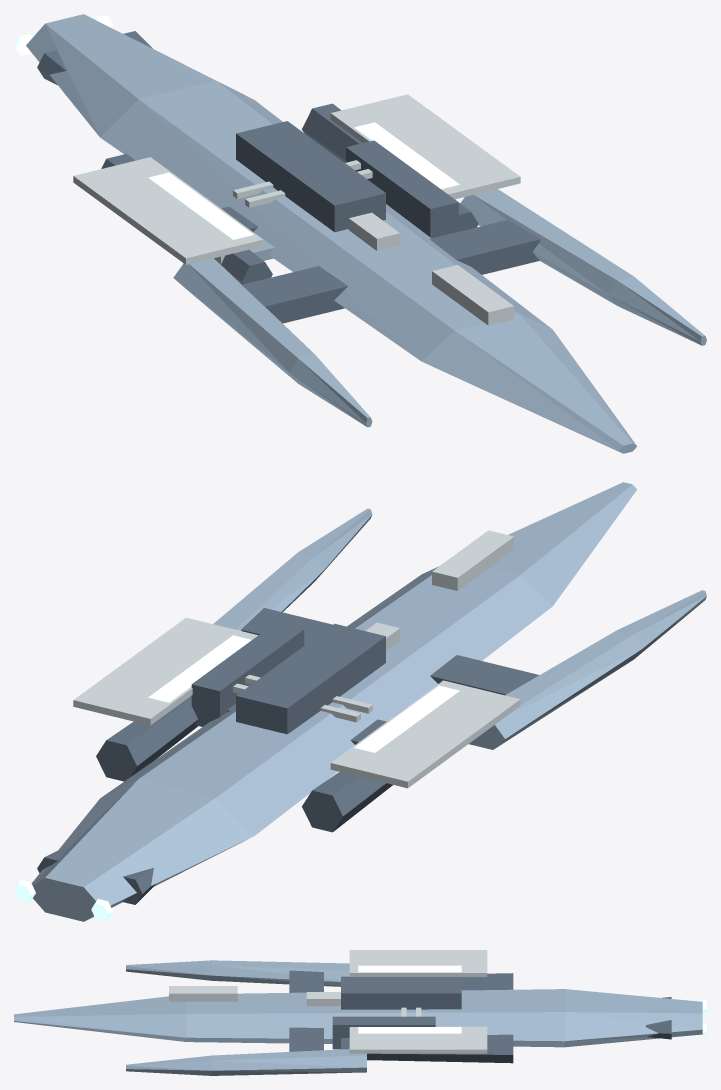
3 views of the same model, one above another, from view 1: azimuth 30°, elevation 25°; view 2: azimuth 150°, elevation 25°; view 3: azimuth 270°, elevation 25° (orthographic). The views are drawn at different scales.
Size of the model in its own units: 5.32 by 1.18 by 14.81.
